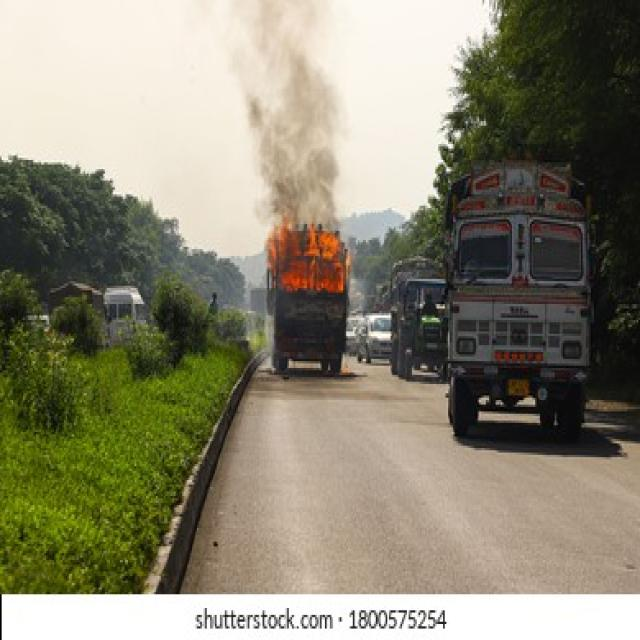truck: (446, 162, 590, 439)
